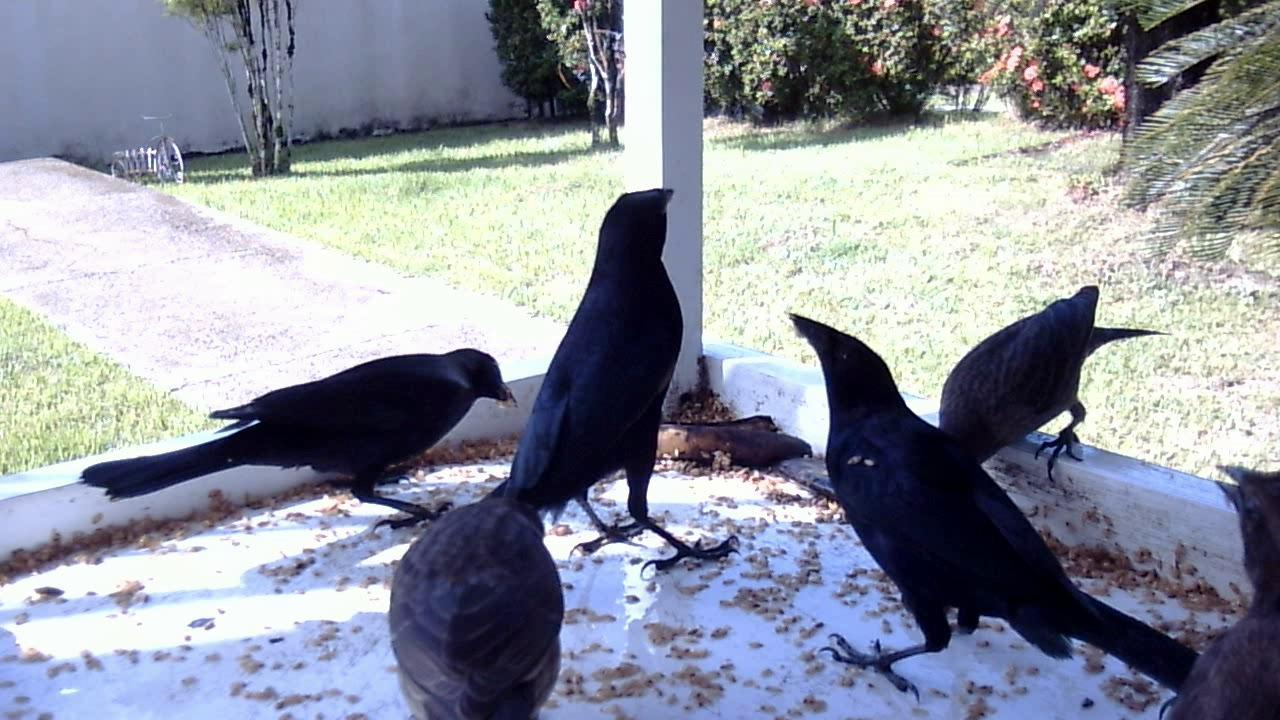chupim: (777, 316, 1207, 710), (72, 327, 537, 559), (482, 184, 728, 598), (933, 277, 1163, 502), (364, 469, 573, 712), (1139, 445, 1280, 715)
